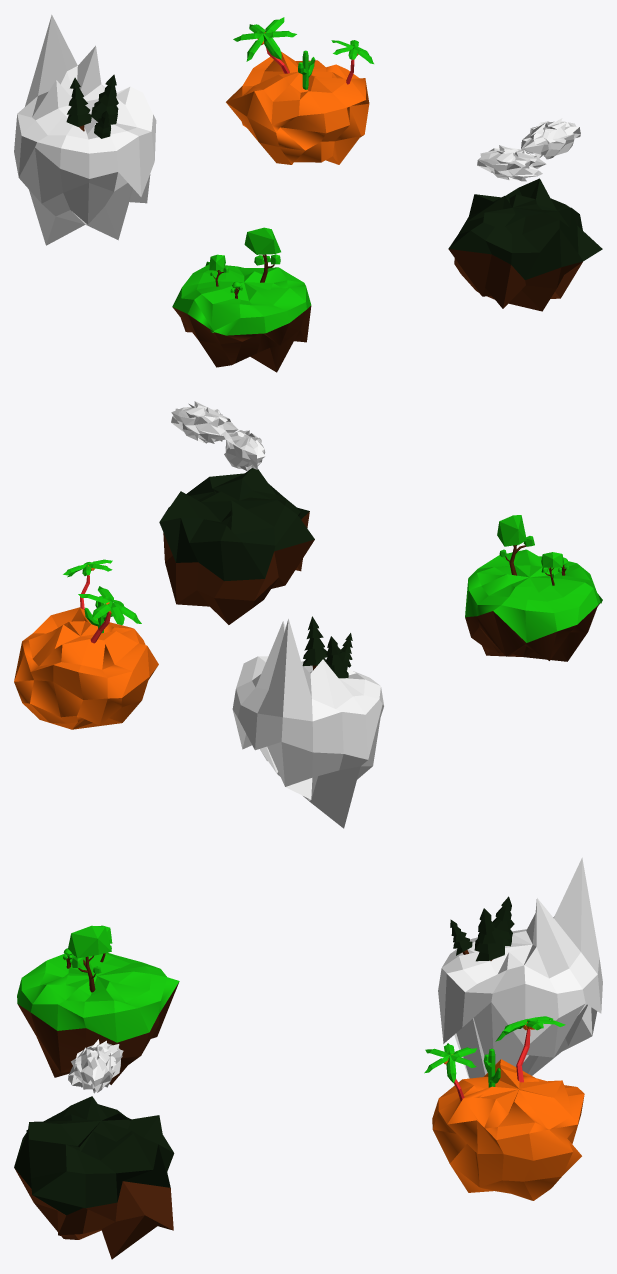
Rendered from Ile du menu.FBX.
3 renders of one model, top to bottom at view 1: azimuth 30°, elevation 25°; view 2: azimuth 150°, elevation 25°; view 3: azimuth 270°, elevation 25°, orthographic. The views are drawn at different scales.
Parts seen in each view (by area): view 1: Ile hiver, Ile automne, Ile été, Ile printemps; view 2: Ile automne, Ile hiver, Ile été, Ile printemps; view 3: Ile hiver, Ile automne, Ile été, Ile printemps.
Boxes of the visible parts, x1,y1,x2,y2 form: Ile hiver: (14, 14, 156, 245); Ile automne: (448, 118, 602, 311); Ile été: (226, 17, 373, 164); Ile printemps: (172, 227, 311, 372); Ile automne: (159, 401, 314, 624); Ile hiver: (232, 616, 383, 828); Ile été: (14, 559, 158, 729); Ile printemps: (465, 515, 602, 661); Ile hiver: (438, 857, 602, 1078); Ile automne: (14, 1039, 174, 1259); Ile été: (424, 1016, 584, 1200); Ile printemps: (17, 925, 179, 1084).
Size of the model in its own units: 37447 by 41495 by 18720.
